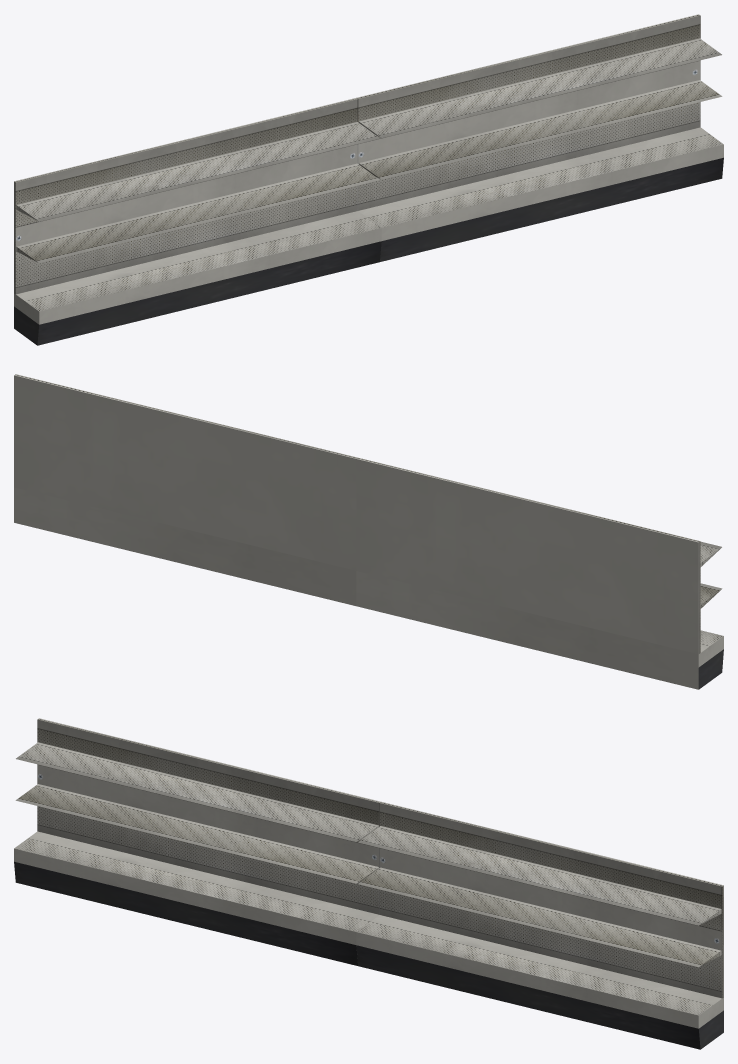
The model's file is Bundle_Shelf_Back_2Slats.fbx.
The picture shows the model from 3 angles, top to bottom: view 1: azimuth 30°, elevation 25°; view 2: azimuth 150°, elevation 25°; view 3: azimuth 330°, elevation 25°; orthographic projection.
Parts seen in each view (by area): view 1: Bundle_Shelf_Back_2Slats_1; view 2: Bundle_Shelf_Back_2Slats_1; view 3: Bundle_Shelf_Back_2Slats_1.
Boxes of the visible parts, <box> form: Bundle_Shelf_Back_2Slats_1: <box>14,14,723,345</box>; Bundle_Shelf_Back_2Slats_1: <box>14,374,723,689</box>; Bundle_Shelf_Back_2Slats_1: <box>14,718,723,1049</box>.
Size of the model in its own units: 932 by 192 by 59.46.
